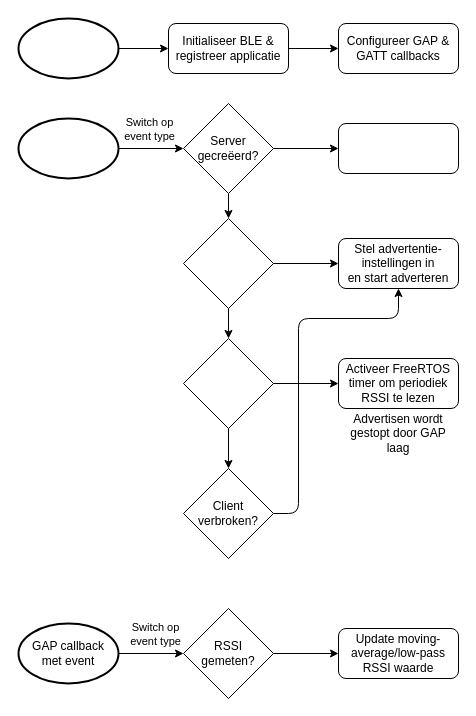
Some shapes in this 476 by 716 pixel diagram are drawn without their labels. The shapes that lost their labels are listed below. From the top down, each one's centre as x and y in pixels, then its label:
At point 68,48: "Programma start".
At point 68,148: "GATT callback met event".
At point 398,148: "Registreer GATT-service".
At point 228,263: "Service gecreëerd?".
At point 228,383: "Client verbonden?".
